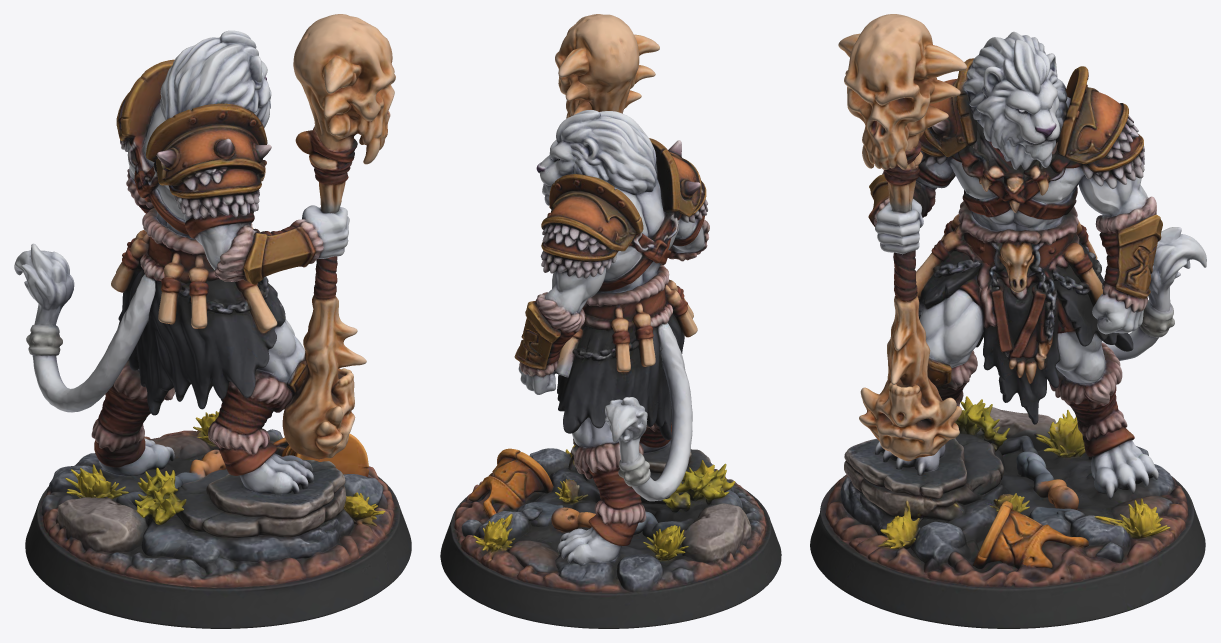
Rendered from inspiration-430.glb.
3 renders of one model, left to right at view 1: azimuth 30°, elevation 25°; view 2: azimuth 150°, elevation 25°; view 3: azimuth 270°, elevation 25°, orthographic. The views are drawn at different scales.
Visible parts, largest first — view 1: tripo_node_0b9936c3-b703-41bf-a895-d7ffd50e6ace; view 2: tripo_node_0b9936c3-b703-41bf-a895-d7ffd50e6ace; view 3: tripo_node_0b9936c3-b703-41bf-a895-d7ffd50e6ace.
Boxes of the visible parts, x1,y1,x2,y2 form: tripo_node_0b9936c3-b703-41bf-a895-d7ffd50e6ace: [14, 14, 411, 628]; tripo_node_0b9936c3-b703-41bf-a895-d7ffd50e6ace: [440, 14, 781, 628]; tripo_node_0b9936c3-b703-41bf-a895-d7ffd50e6ace: [810, 14, 1206, 628].
Size of the model in its own units: 0.6347 by 1 by 0.6412.
Materials: 1 (1 with a texture image).
